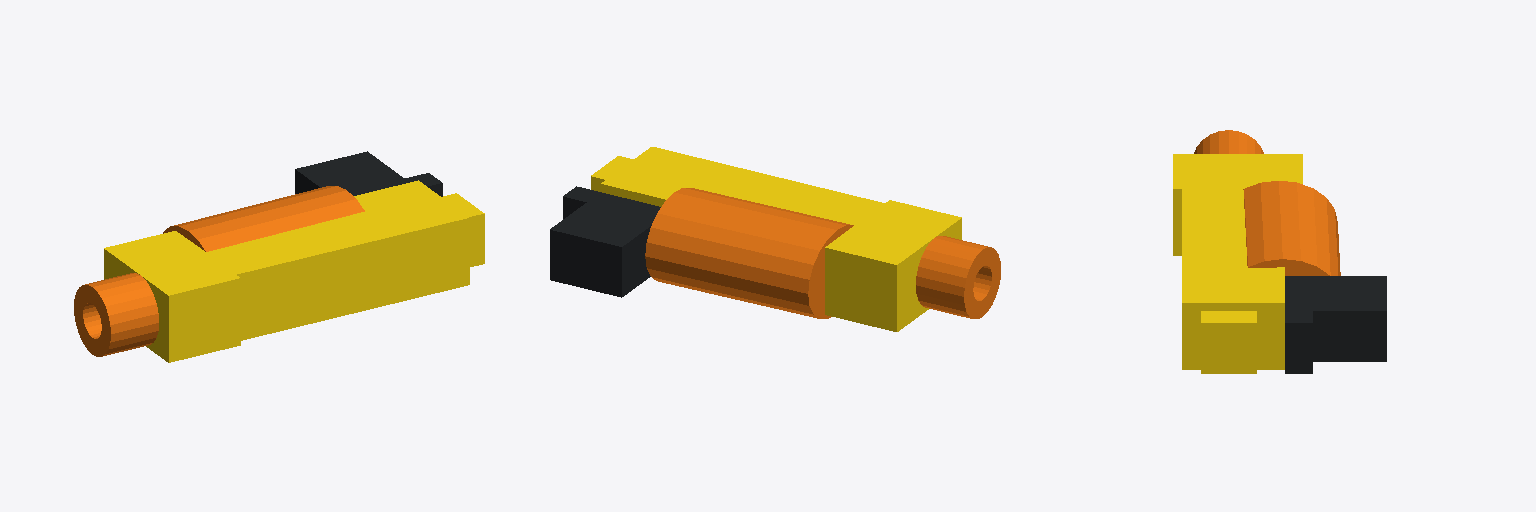
Rendered from nerf gun.obj.
3 renders of one model, left to right at view 1: azimuth 30°, elevation 25°; view 2: azimuth 150°, elevation 25°; view 3: azimuth 270°, elevation 25°, orthographic.
Parts seen in each view (by area): view 1: obj_0; view 2: obj_0; view 3: obj_0.
Boxes of the visible parts, x1=… form: obj_0: x1=74, y1=151, x2=484, y2=362; obj_0: x1=550, y1=147, x2=1000, y2=331; obj_0: x1=1173, y1=130, x2=1386, y2=373.
Bounding box in the file's own units: 47 × 10 × 23.